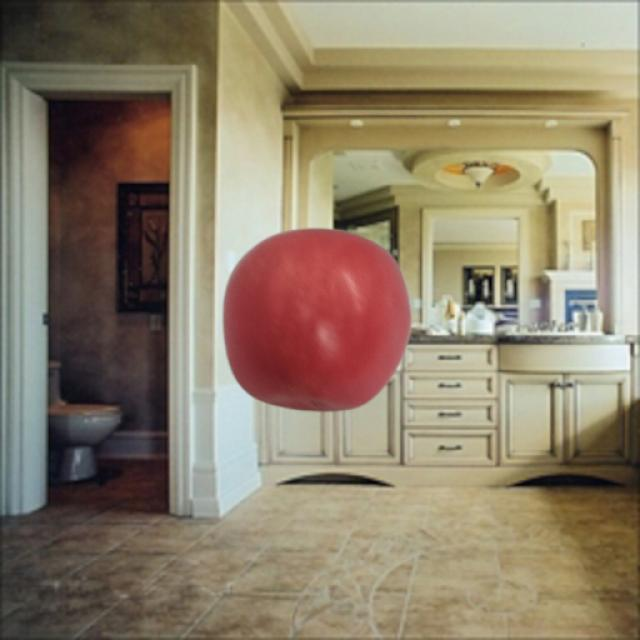apple: (224, 226, 412, 412)
